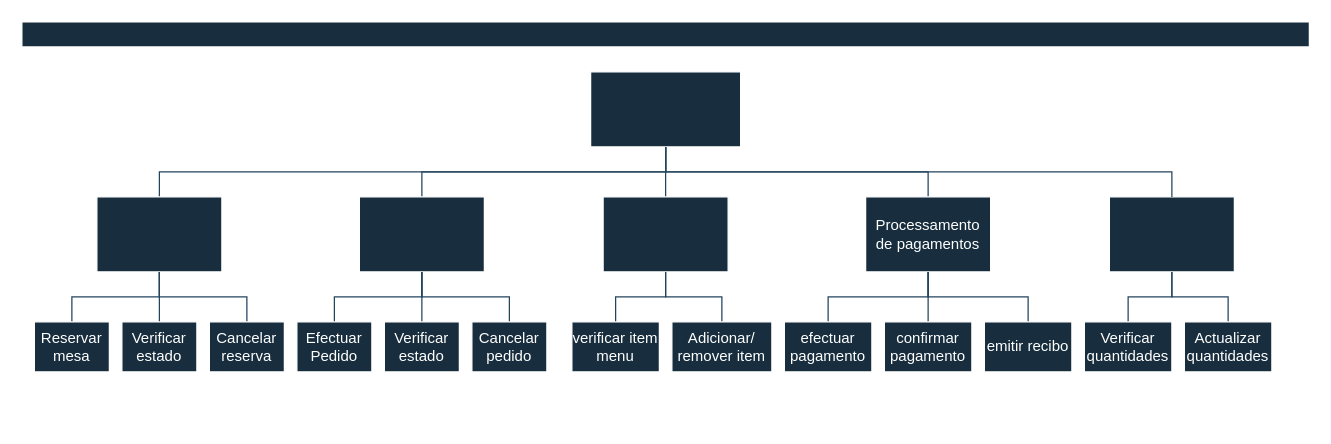
Image size: 1331x444. Some labels were removed from this diagram. Here are the shapes that lost their labels. From the top down, the centre of each, then its label:
At point (665, 109): "Sistema de Gestão de um Restaurante".
At point (159, 234): "Gestão de Reservas".
At point (421, 234): "Gestão de Pedidos".
At point (665, 234): "Gestão de menus digitais".
At point (1171, 234): "Gestão de estoque".
